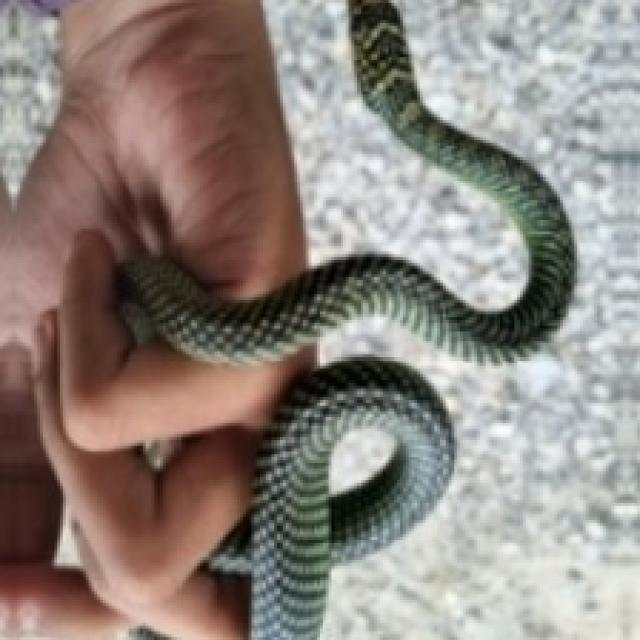paradise tree snake: (117, 0, 574, 363), (211, 357, 451, 637)
